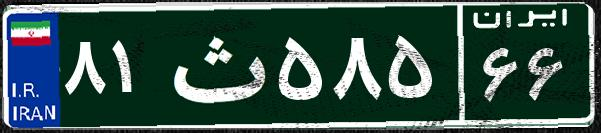1: (110, 28, 158, 105)
5: (385, 28, 445, 110), (273, 28, 330, 110)
6: (475, 38, 525, 113), (525, 38, 570, 115)
8: (330, 28, 385, 110), (57, 26, 110, 107)
ث: (158, 15, 273, 115)
